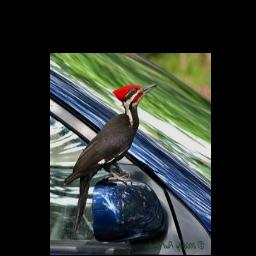Woodpecker: (62, 82, 160, 239)
